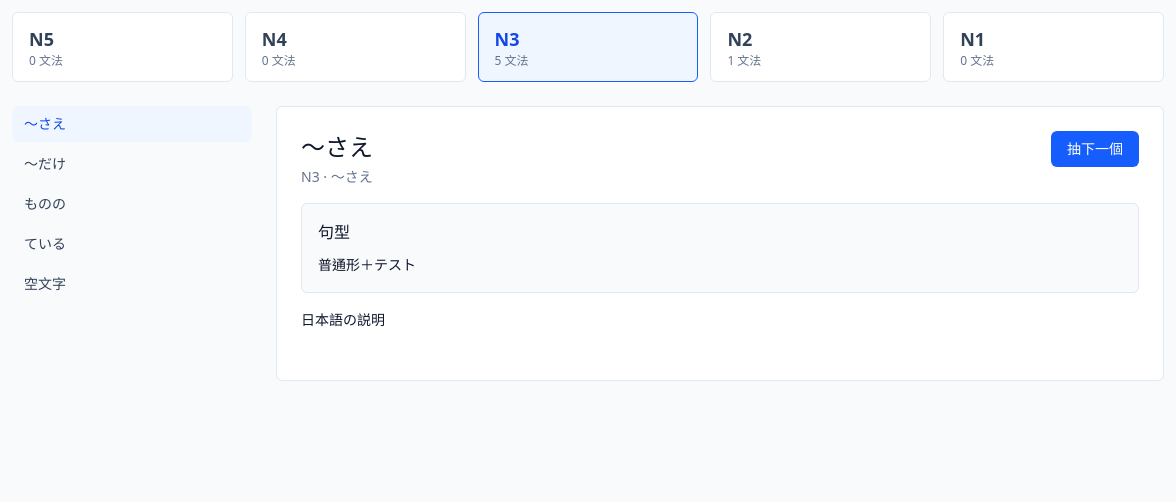
GrammarTab › switches the active grammar slug after drawing a random grammar point
Step 1. Click the button "抽下一個" → (1095, 149), box [1051,131,1139,167]
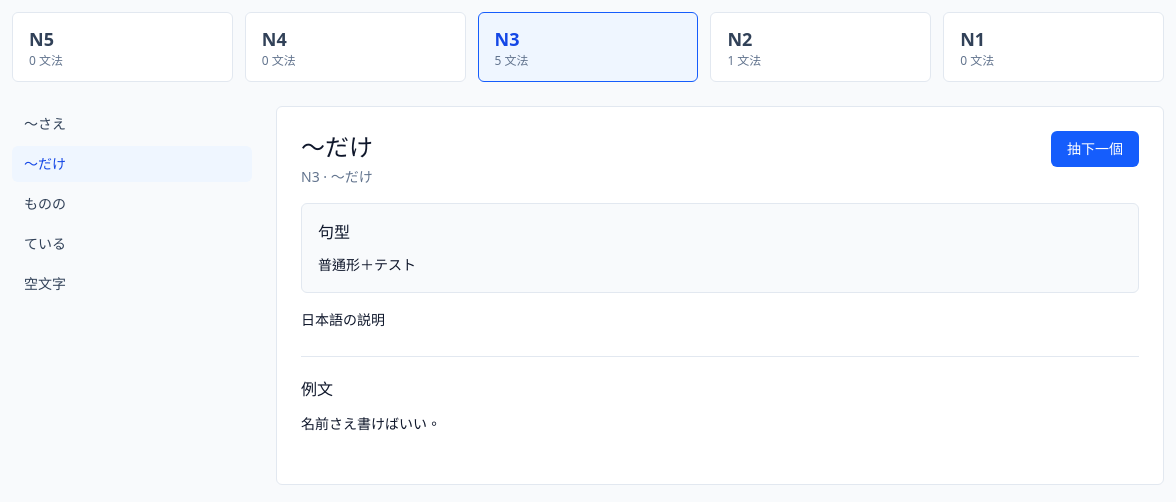
Expected: the heading "〜だけ" is shown, [301,131,373,163]
